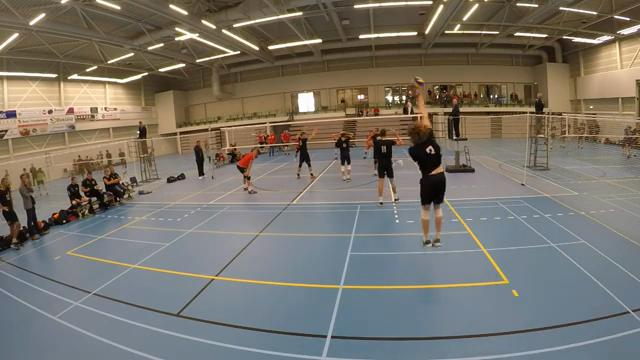Player: (373, 129, 402, 205), (237, 147, 259, 193), (334, 131, 353, 181), (297, 129, 316, 179), (371, 128, 379, 176), (363, 130, 372, 158), (333, 134, 339, 159), (294, 135, 299, 160)
Serve: (402, 89, 450, 252)
ball: (411, 76, 425, 88)
